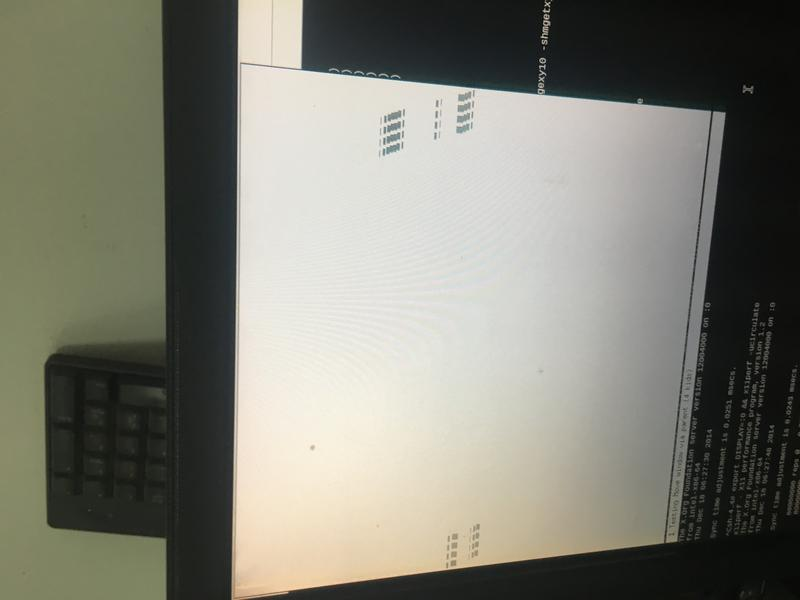xrandr_pass: (228, 48, 744, 598)
